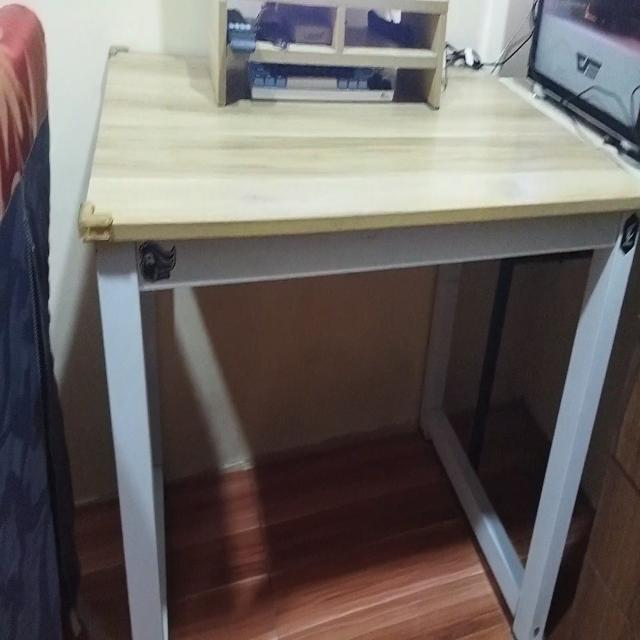table: (83, 30, 640, 640)
